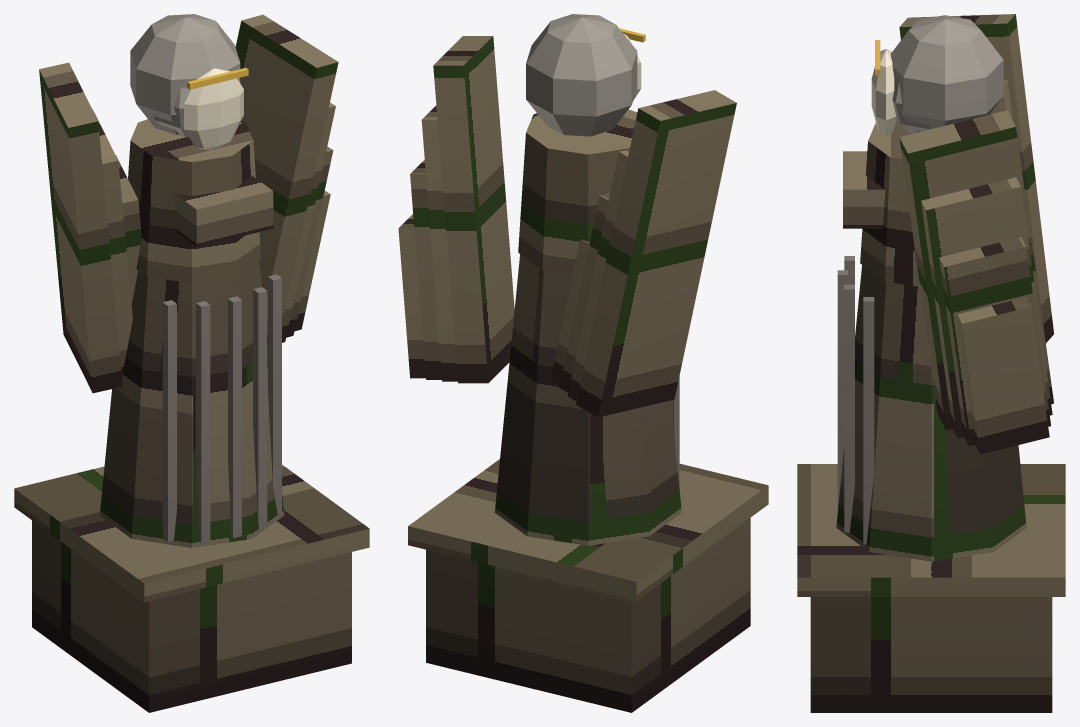
File: faceless_statue.glb
3 views of the same model, side by side, from view 1: azimuth 30°, elevation 25°; view 2: azimuth 150°, elevation 25°; view 3: azimuth 270°, elevation 25° (orthographic). The views are drawn at different scales.
Parts seen in each view (by area): view 1: faceless_statue; view 2: faceless_statue; view 3: faceless_statue.
Part boxes in pixels (x1,y1,x2,y2): faceless_statue: (14, 14, 369, 712); faceless_statue: (398, 14, 768, 712); faceless_statue: (797, 14, 1065, 712).
Size of the model in its own units: 1.28 by 2.64 by 1.
Materials: 2 (1 with a texture image).
